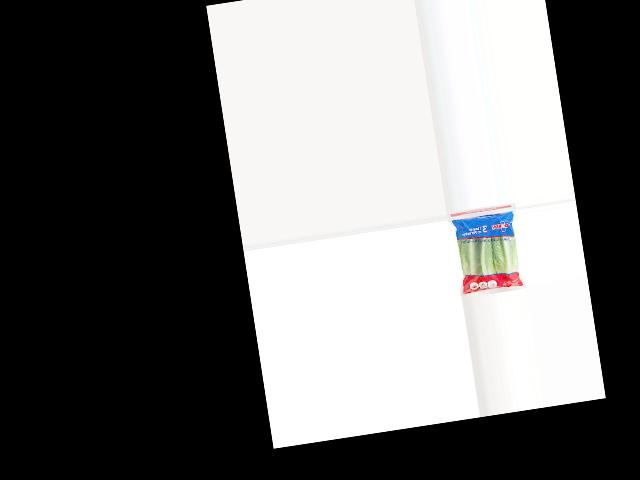lettuce: (450, 207, 528, 297)
